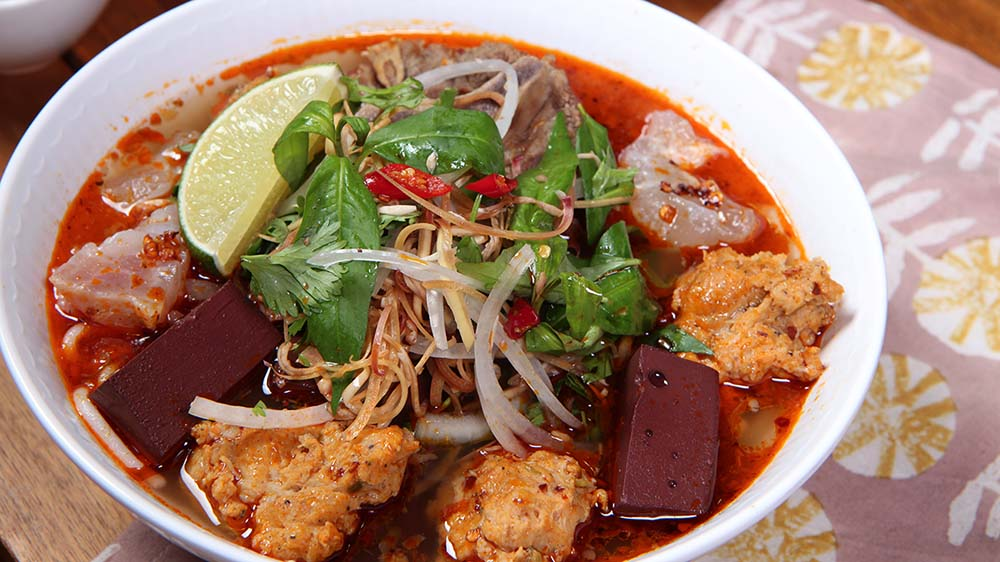beef: (621, 108, 762, 249), (55, 223, 194, 325)
chilli: (352, 159, 521, 206)
onion: (321, 203, 509, 350)
pork: (372, 42, 585, 171)
rieu: (199, 410, 412, 559), (687, 253, 846, 377), (448, 444, 597, 562)
